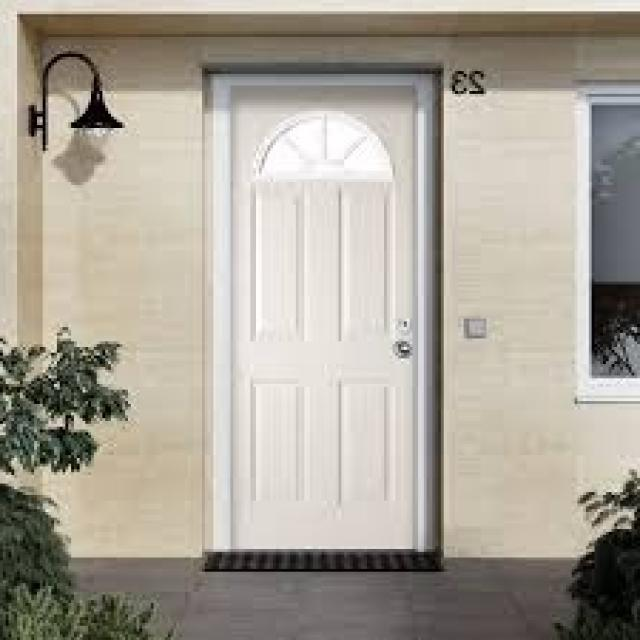door: (225, 77, 421, 554)
